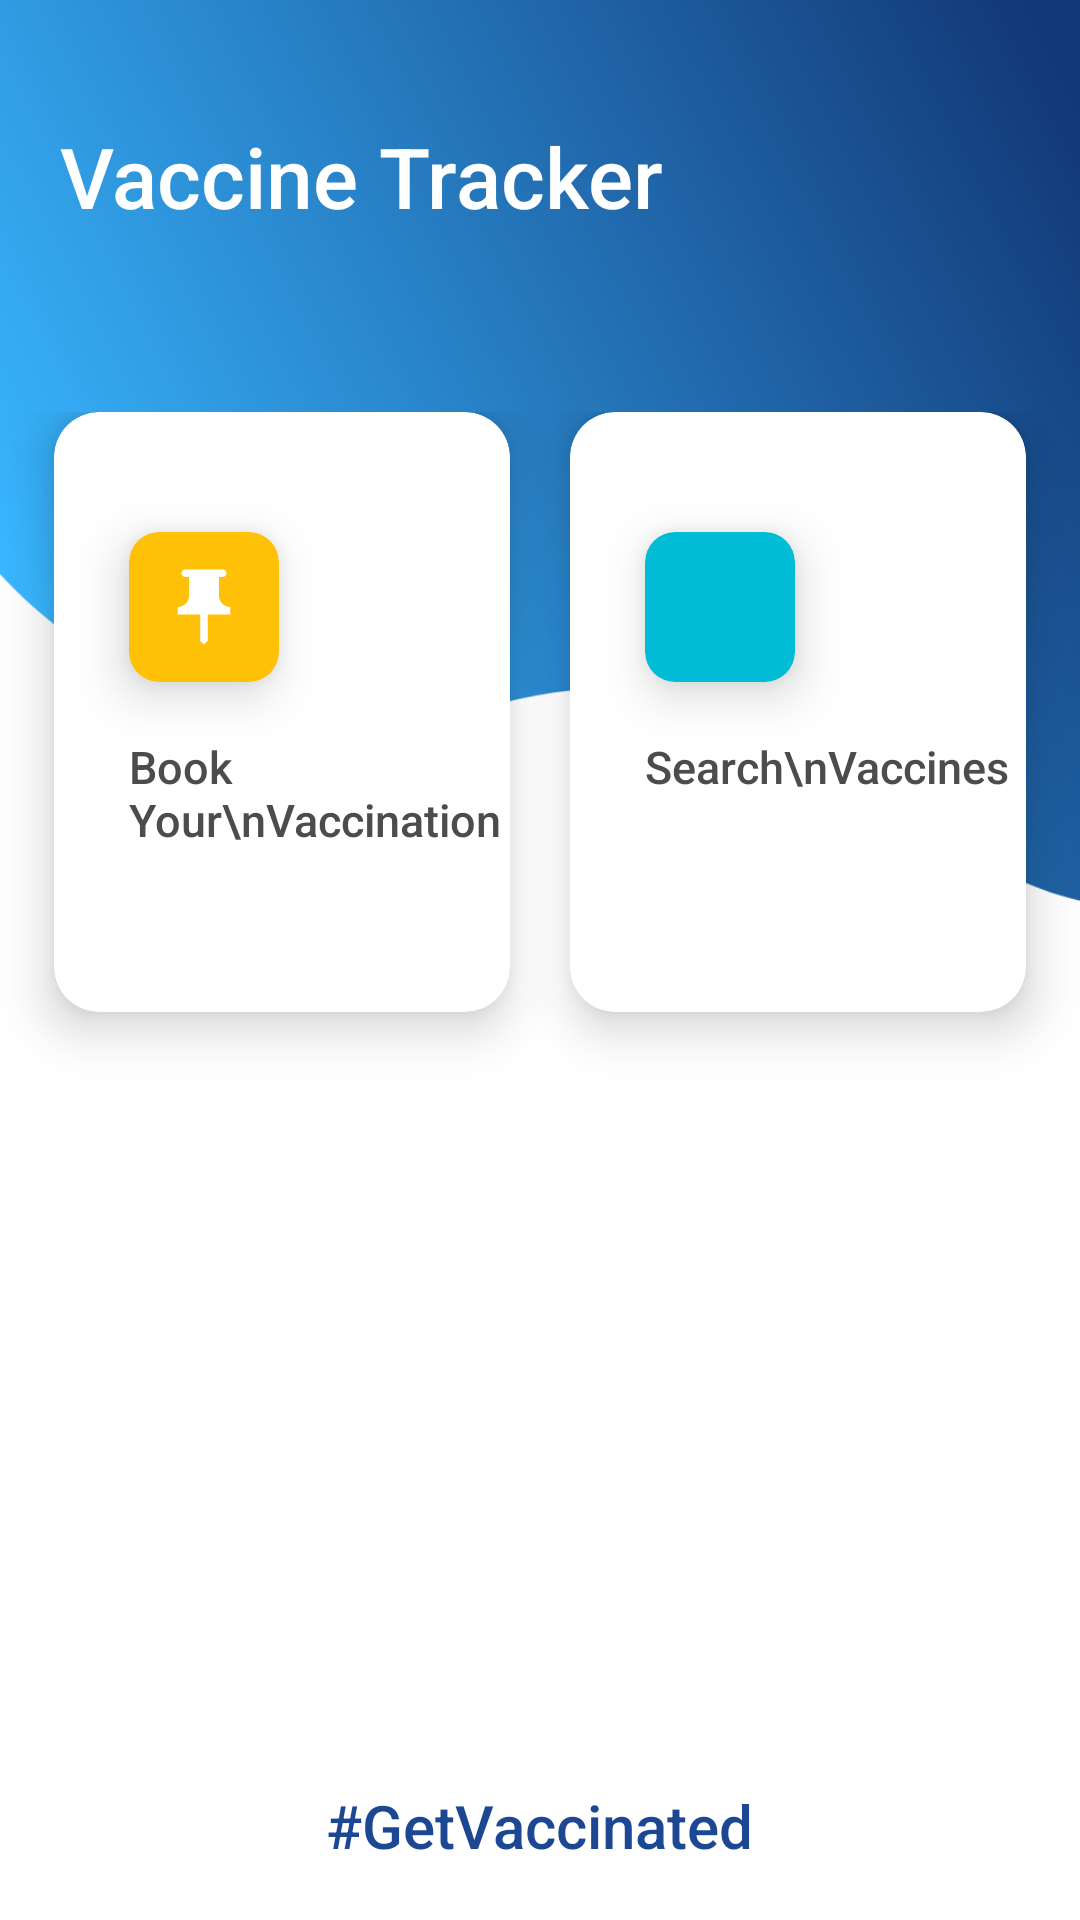

Screen size 1080w x 1920h. Icon name, then its box in pixels as [x1,y1,x2,y2]:
pin: [177,569,231,645]
